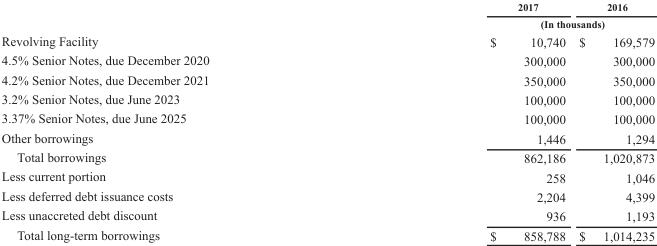table: (0, 1, 654, 242)
table column: (0, 1, 348, 242), (348, 1, 571, 242), (571, 1, 654, 242)
table column header: (0, 1, 654, 31)
table row: (0, 50, 654, 70), (0, 108, 654, 128), (0, 166, 654, 186), (0, 205, 654, 225), (0, 31, 654, 50), (0, 70, 654, 89), (0, 89, 654, 108), (0, 128, 654, 147), (0, 147, 654, 166), (0, 186, 654, 205), (0, 225, 654, 242), (0, 15, 654, 31), (0, 1, 654, 15)
table spanning cell: (348, 15, 654, 31)
